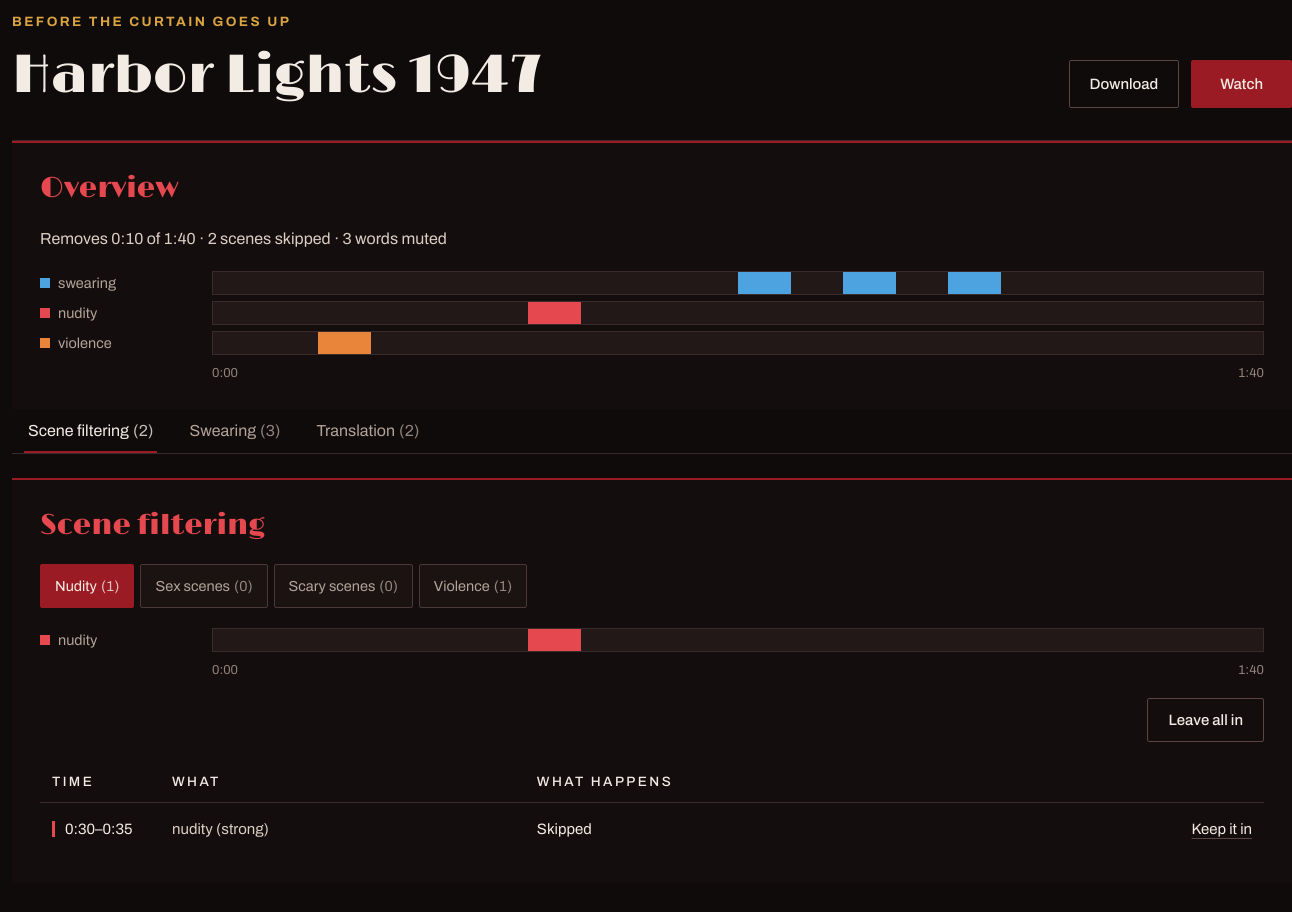
Test: ReviewPage swearing › shows what was found when swearing was checked
Click the tab "Swearing (3)": click(235, 431) [174, 409, 296, 453]
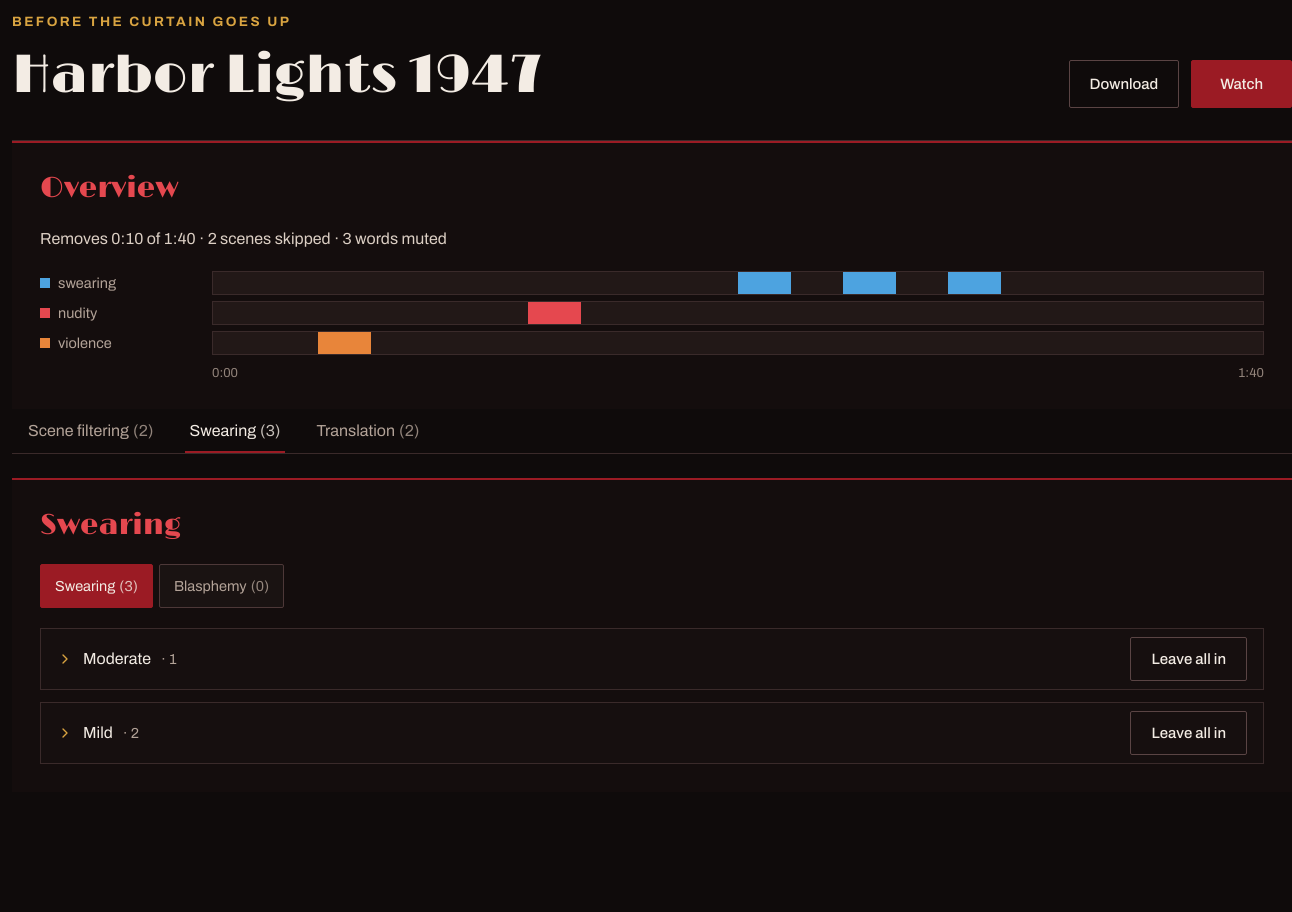
Now the element named "Kind of language" is shown, box [40, 564, 284, 608]
